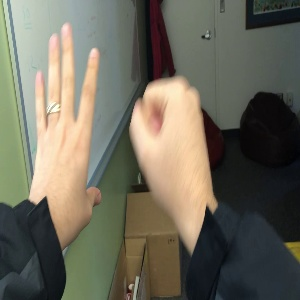hand: (35, 24, 102, 226), (129, 76, 215, 223)
